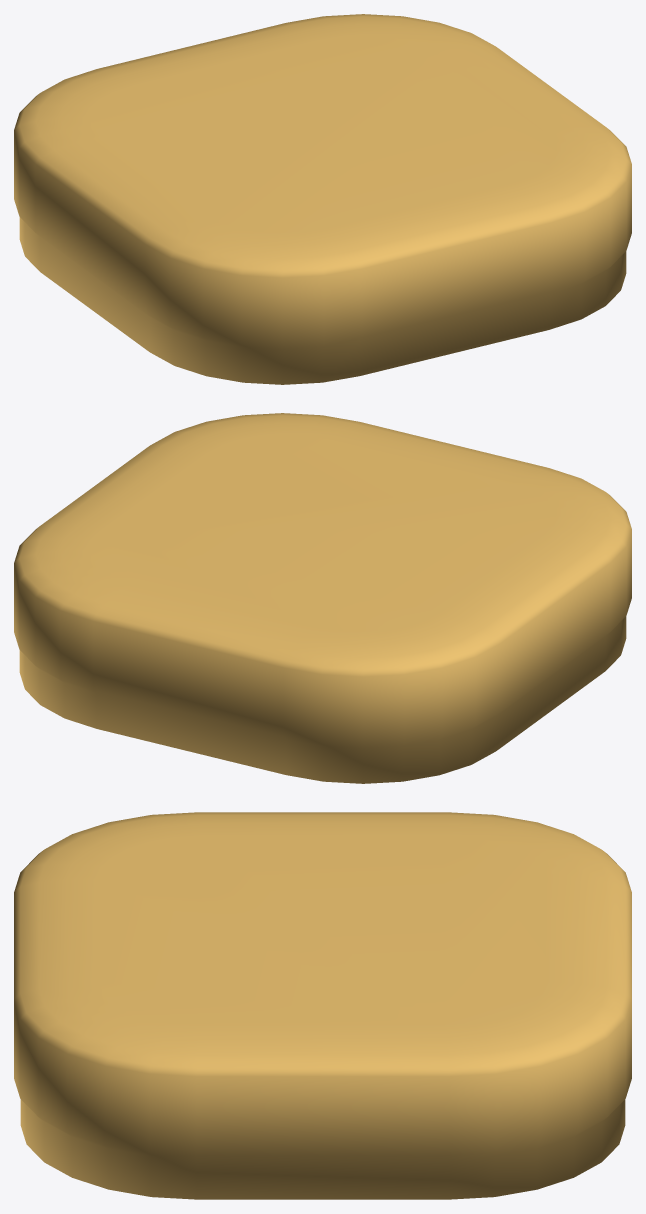
The model's file is ev_koyma_yeri.fbx.
3 views of the same model, one above another, from view 1: azimuth 30°, elevation 25°; view 2: azimuth 150°, elevation 25°; view 3: azimuth 270°, elevation 25° (orthographic). The views are drawn at different scales.
Parts seen in each view (by area): view 1: Cube; view 2: Cube; view 3: Cube.
Boxes of the visible parts, bbox=[...] form: Cube: bbox=[14, 14, 631, 384]; Cube: bbox=[14, 413, 631, 783]; Cube: bbox=[14, 812, 631, 1199].
Size of the model in its own units: 40.54 by 10.57 by 40.54.
